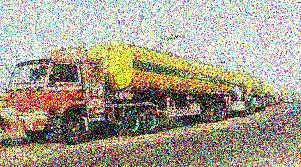truck: (0, 41, 230, 144), (229, 66, 268, 118)
